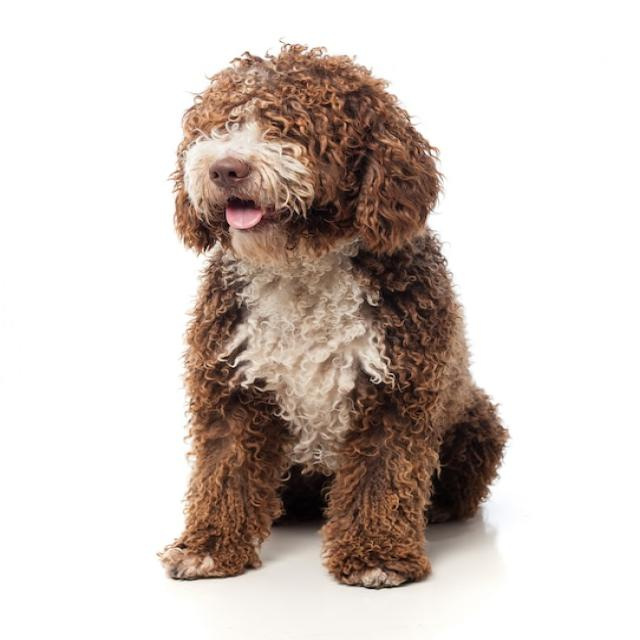Dog: (155, 42, 509, 589)
